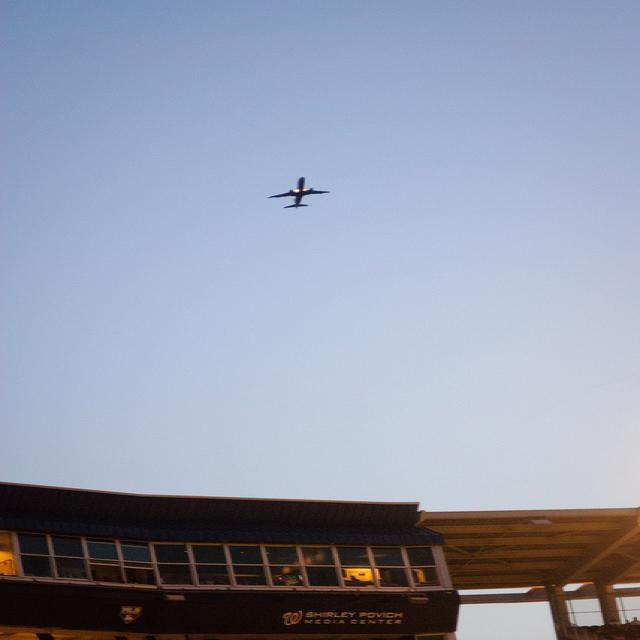airplane: (266, 174, 334, 210)
